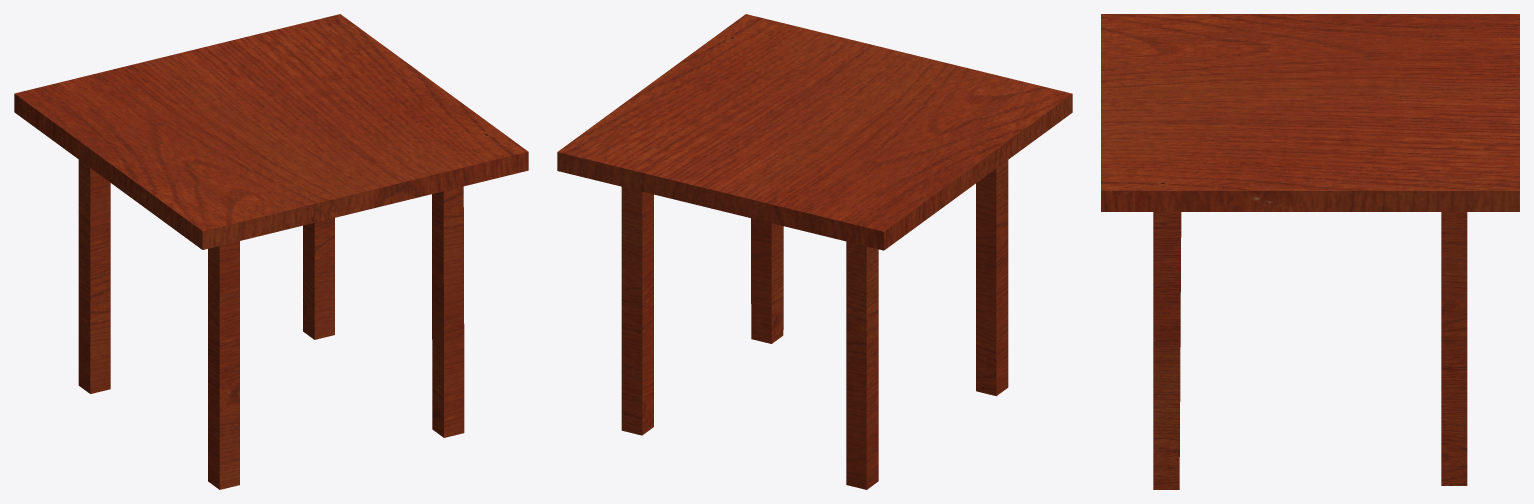
Rendered from table.fbx.
3 views of the same model, side by side, from view 1: azimuth 30°, elevation 25°; view 2: azimuth 150°, elevation 25°; view 3: azimuth 270°, elevation 25° (orthographic). The views are drawn at different scales.
Parts seen in each view (by area): view 1: Table Top, Table Legs; view 2: Table Top, Table Legs; view 3: Table Top, Table Legs.
Part boxes in pixels (<box>): Table Top: <box>14,14,528,249</box>; Table Legs: <box>78,160,464,489</box>; Table Top: <box>557,14,1072,250</box>; Table Legs: <box>621,160,1008,489</box>; Table Top: <box>1101,14,1519,211</box>; Table Legs: <box>1153,212,1467,489</box>.
Size of the model in its own units: 2.92 by 2.47 by 2.92.
Materials: 1 (1 with a texture image).
